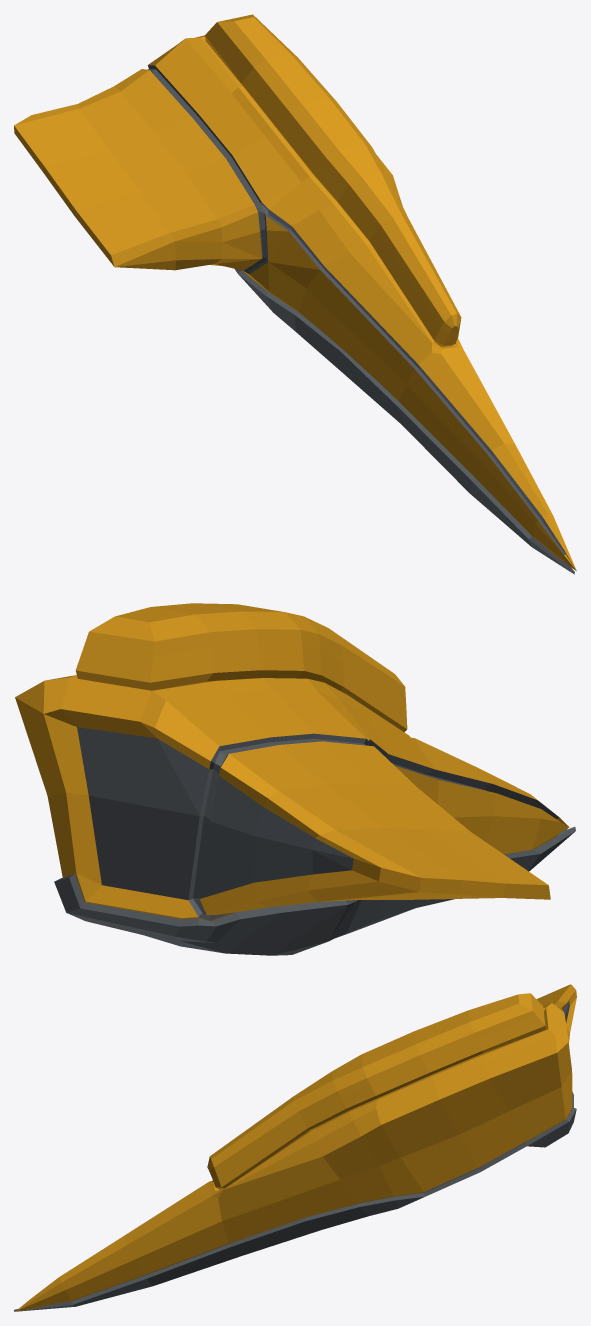
The model's file is Fighter_03_Wing_Bottom_Right_Yellow.fbx.
The picture shows the model from 3 angles, top to bottom: view 1: azimuth 30°, elevation 25°; view 2: azimuth 150°, elevation 25°; view 3: azimuth 270°, elevation 25°; orthographic projection. The views are drawn at different scales.
Visible parts, largest first — view 1: Fighter_03_Wing_Bottom_Right_Yellow; view 2: Fighter_03_Wing_Bottom_Right_Yellow; view 3: Fighter_03_Wing_Bottom_Right_Yellow.
Part boxes in pixels (box(x1,y1,x2,y2)): Fighter_03_Wing_Bottom_Right_Yellow: box(14, 14, 576, 574); Fighter_03_Wing_Bottom_Right_Yellow: box(15, 603, 575, 955); Fighter_03_Wing_Bottom_Right_Yellow: box(14, 984, 576, 1311).
Size of the model in its own units: 354 by 440 by 752.
2 materials, 2 textured.
